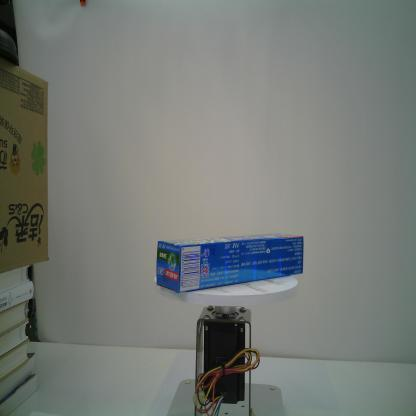Personal Hygiene: (154, 229, 306, 295)
